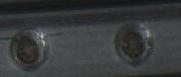joints: (5, 26, 50, 70), (111, 20, 154, 63)
